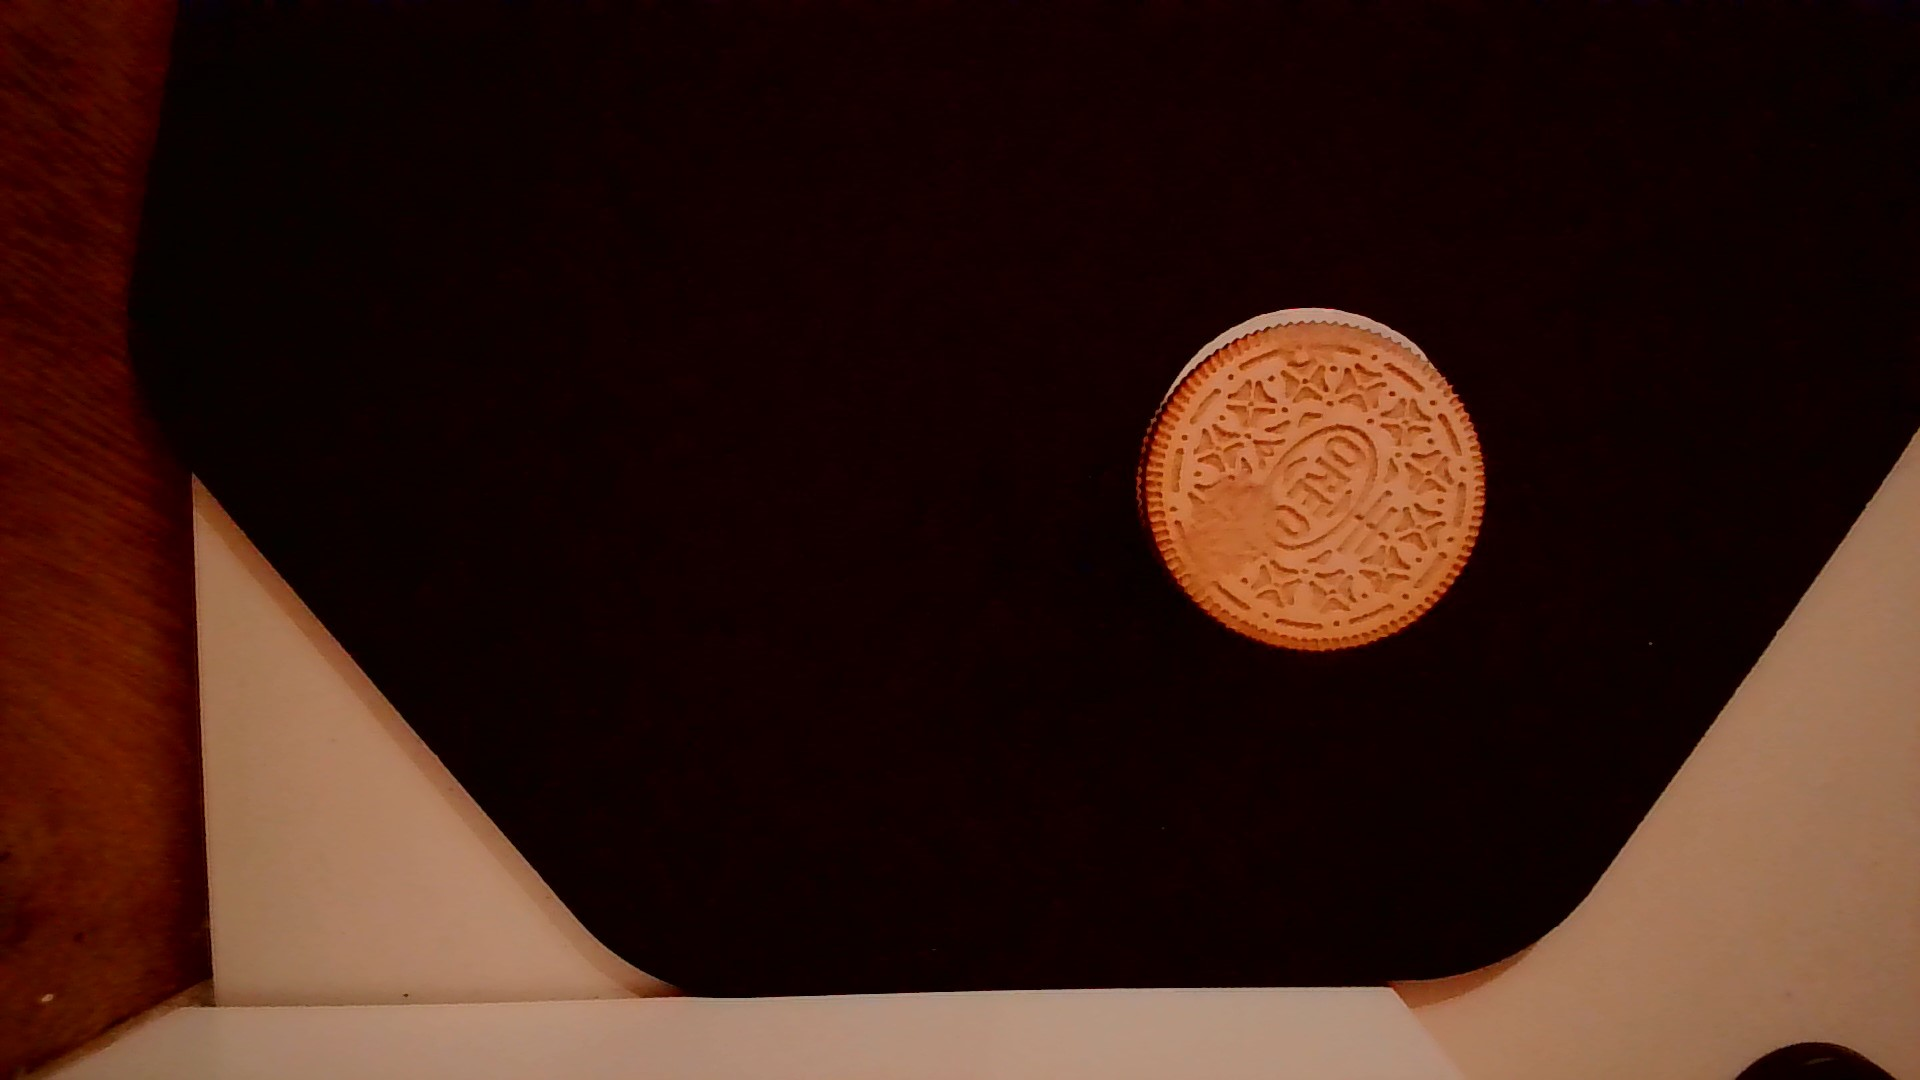Décalé: (1156, 280, 1453, 400)
Effacé: (1183, 479, 1283, 574)
Oréo: (1134, 301, 1498, 659)
